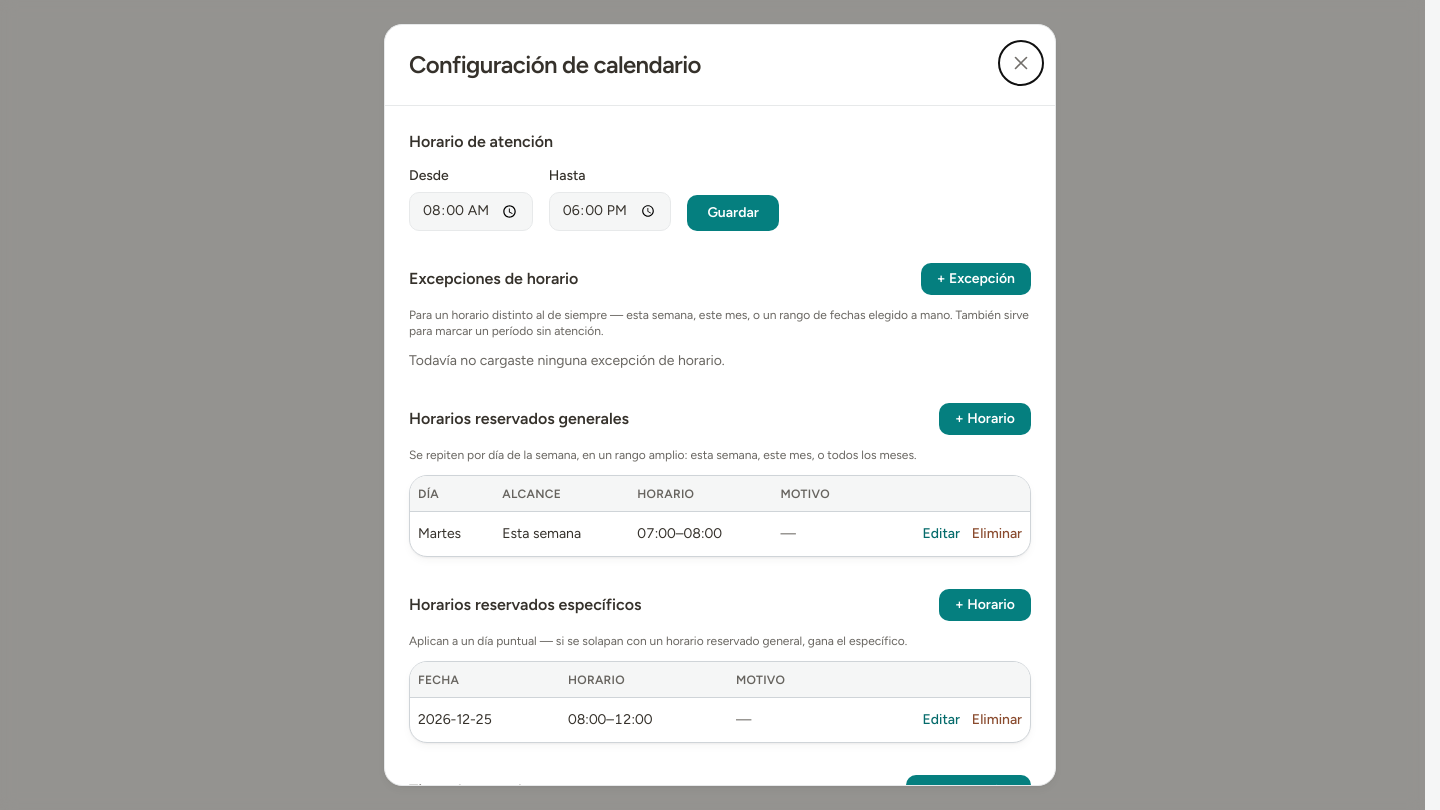
Test: ConfiguracionCalendarioModal › elimina un horario reservado general de la tabla, pidiendo confirmación primero
This screenshot has width=1440, height=810.
Expected: the text "Martes" is shown, 410,512 -> 494,556
Click the button with aria-label "Eliminar horario reservado".
click(997, 534)  # box 972,524 -> 1022,544
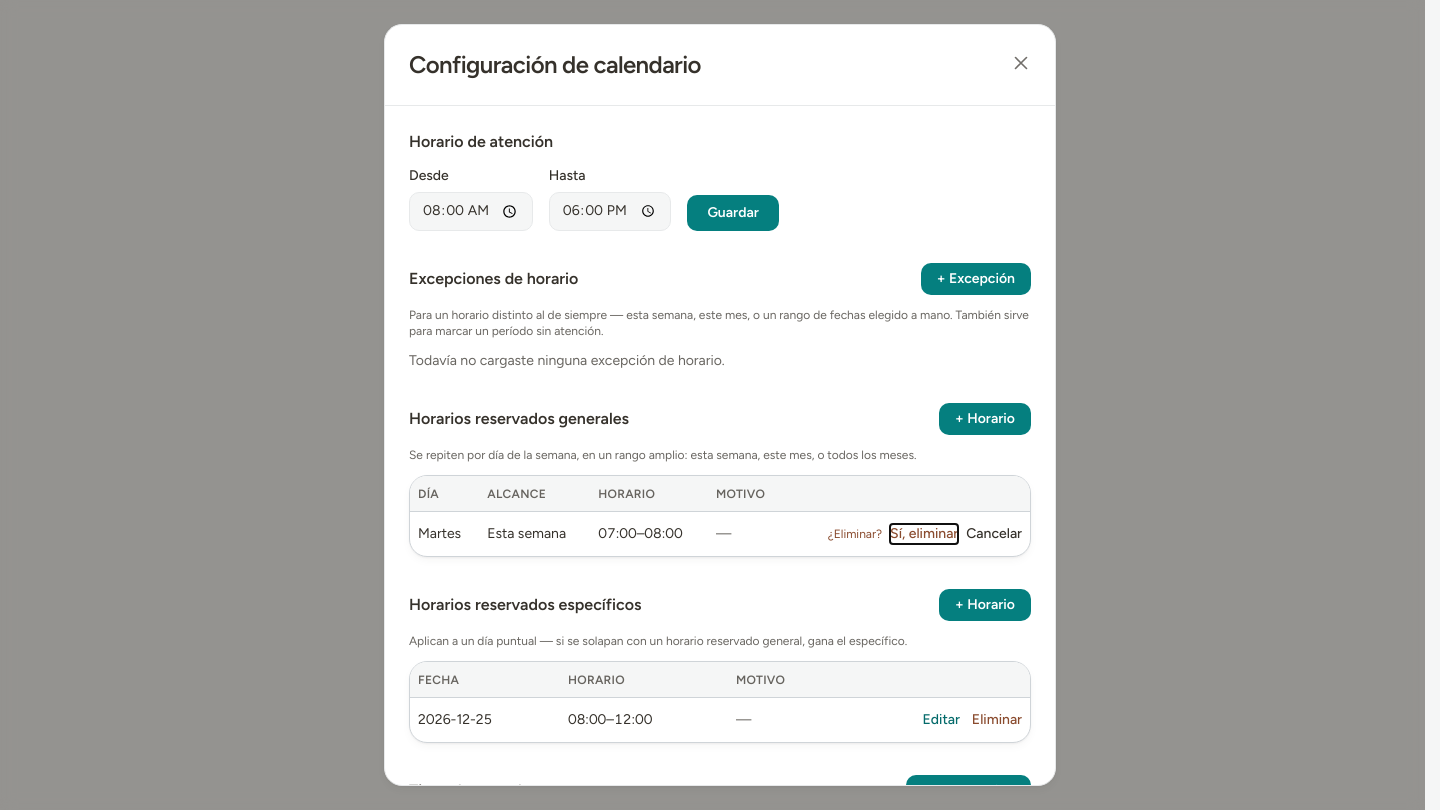
Click the button "Sí, eliminar".
click(924, 534)  # box 890,524 -> 958,544
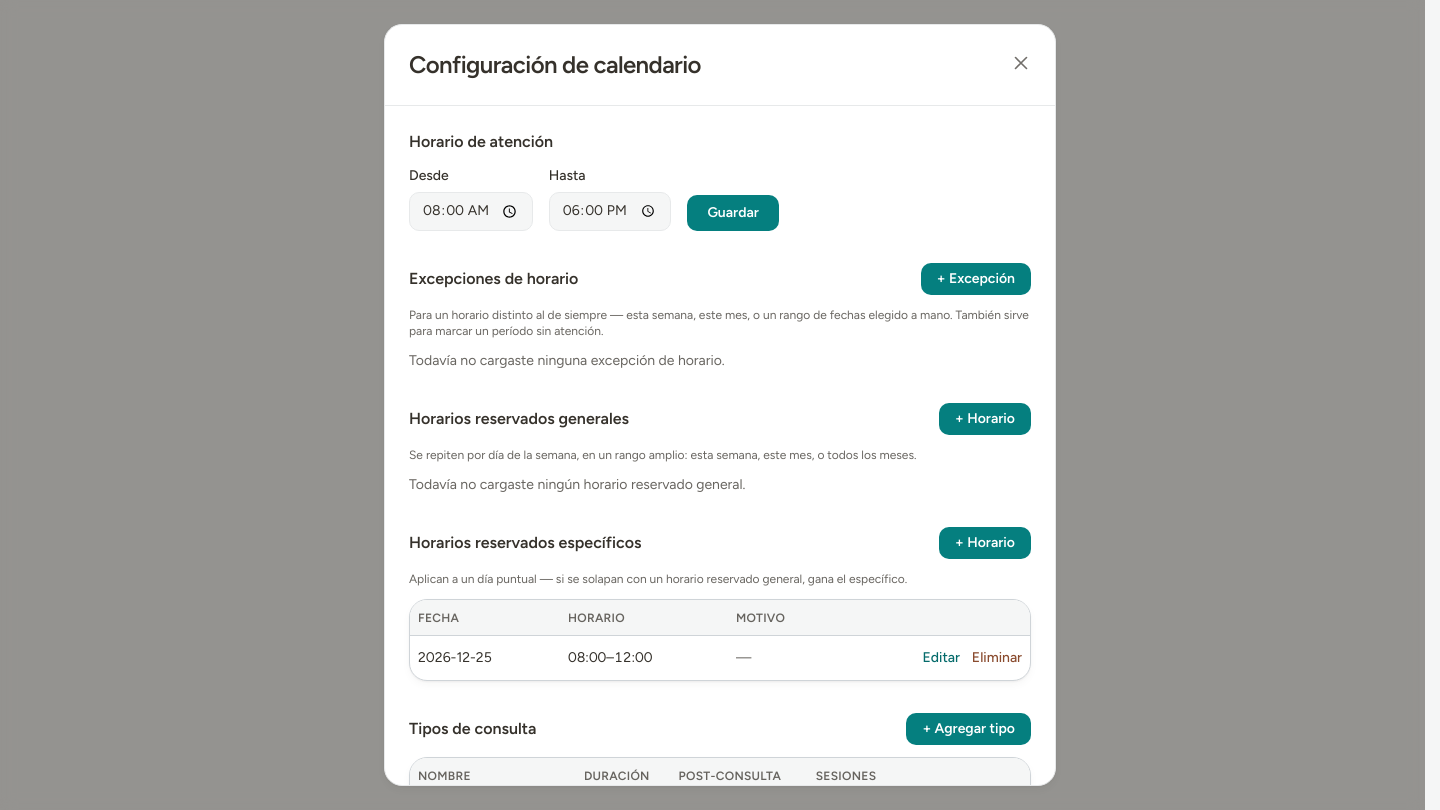
Expected: the text "Martes" is gone
